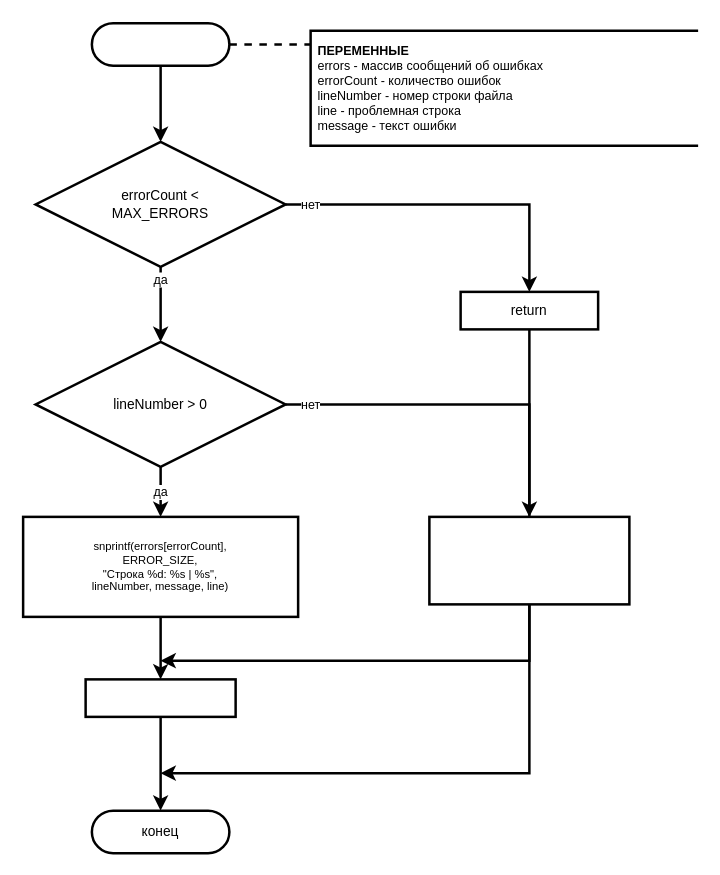
Image size: 720x875. Some labels were removed from this diagram. The box of each missing label's shape, as (x1, y1, x2, y2) in pixels:
errorCount++: (84, 678, 236, 718)
snprintf(errors[errorCount], ERROR_SIZE, "%s", message): (428, 515, 630, 605)
начало: (90, 21, 230, 66)
